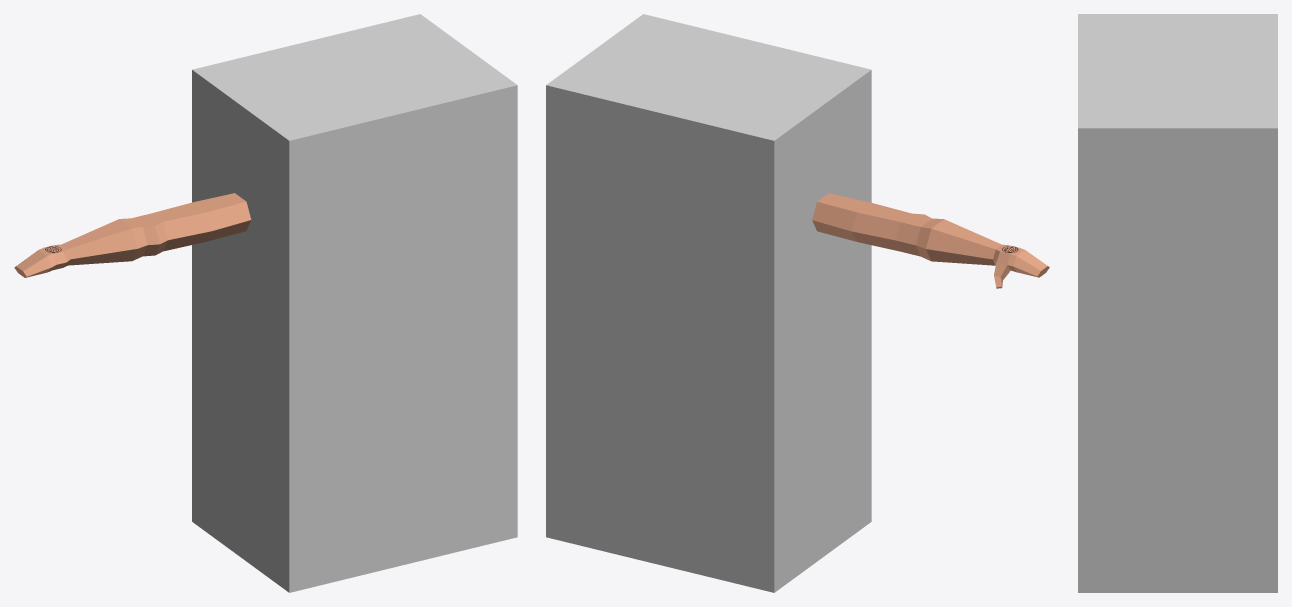
The model's file is Arm4.fbx.
3 views of the same model, side by side, from view 1: azimuth 30°, elevation 25°; view 2: azimuth 150°, elevation 25°; view 3: azimuth 270°, elevation 25° (orthographic). The views are drawn at different scales.
Parts seen in each view (by area): view 1: Cube, Cube.001; view 2: Cube, Cube.001; view 3: Cube.
Part boxes in pixels (bbox=[...]): Cube: bbox=[192, 14, 517, 592]; Cube.001: bbox=[14, 193, 251, 277]; Cube: bbox=[546, 14, 871, 592]; Cube.001: bbox=[812, 193, 1049, 288]; Cube: bbox=[1078, 14, 1277, 592].
Size of the model in its own units: 983 by 945 by 368.
